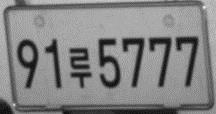1: (43, 37, 61, 88)
5: (97, 38, 121, 89)
7: (175, 36, 200, 88), (148, 37, 172, 87), (121, 37, 144, 87)
9: (16, 38, 39, 89)
루: (68, 47, 92, 89)
